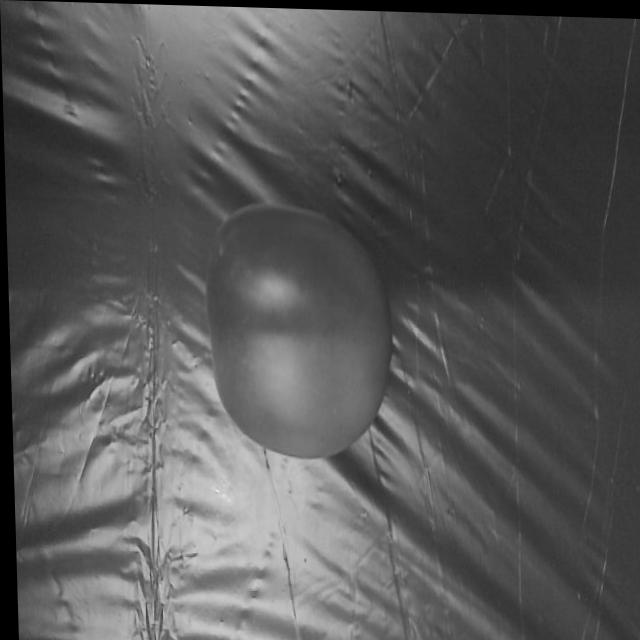sari: (193, 206, 434, 484)
